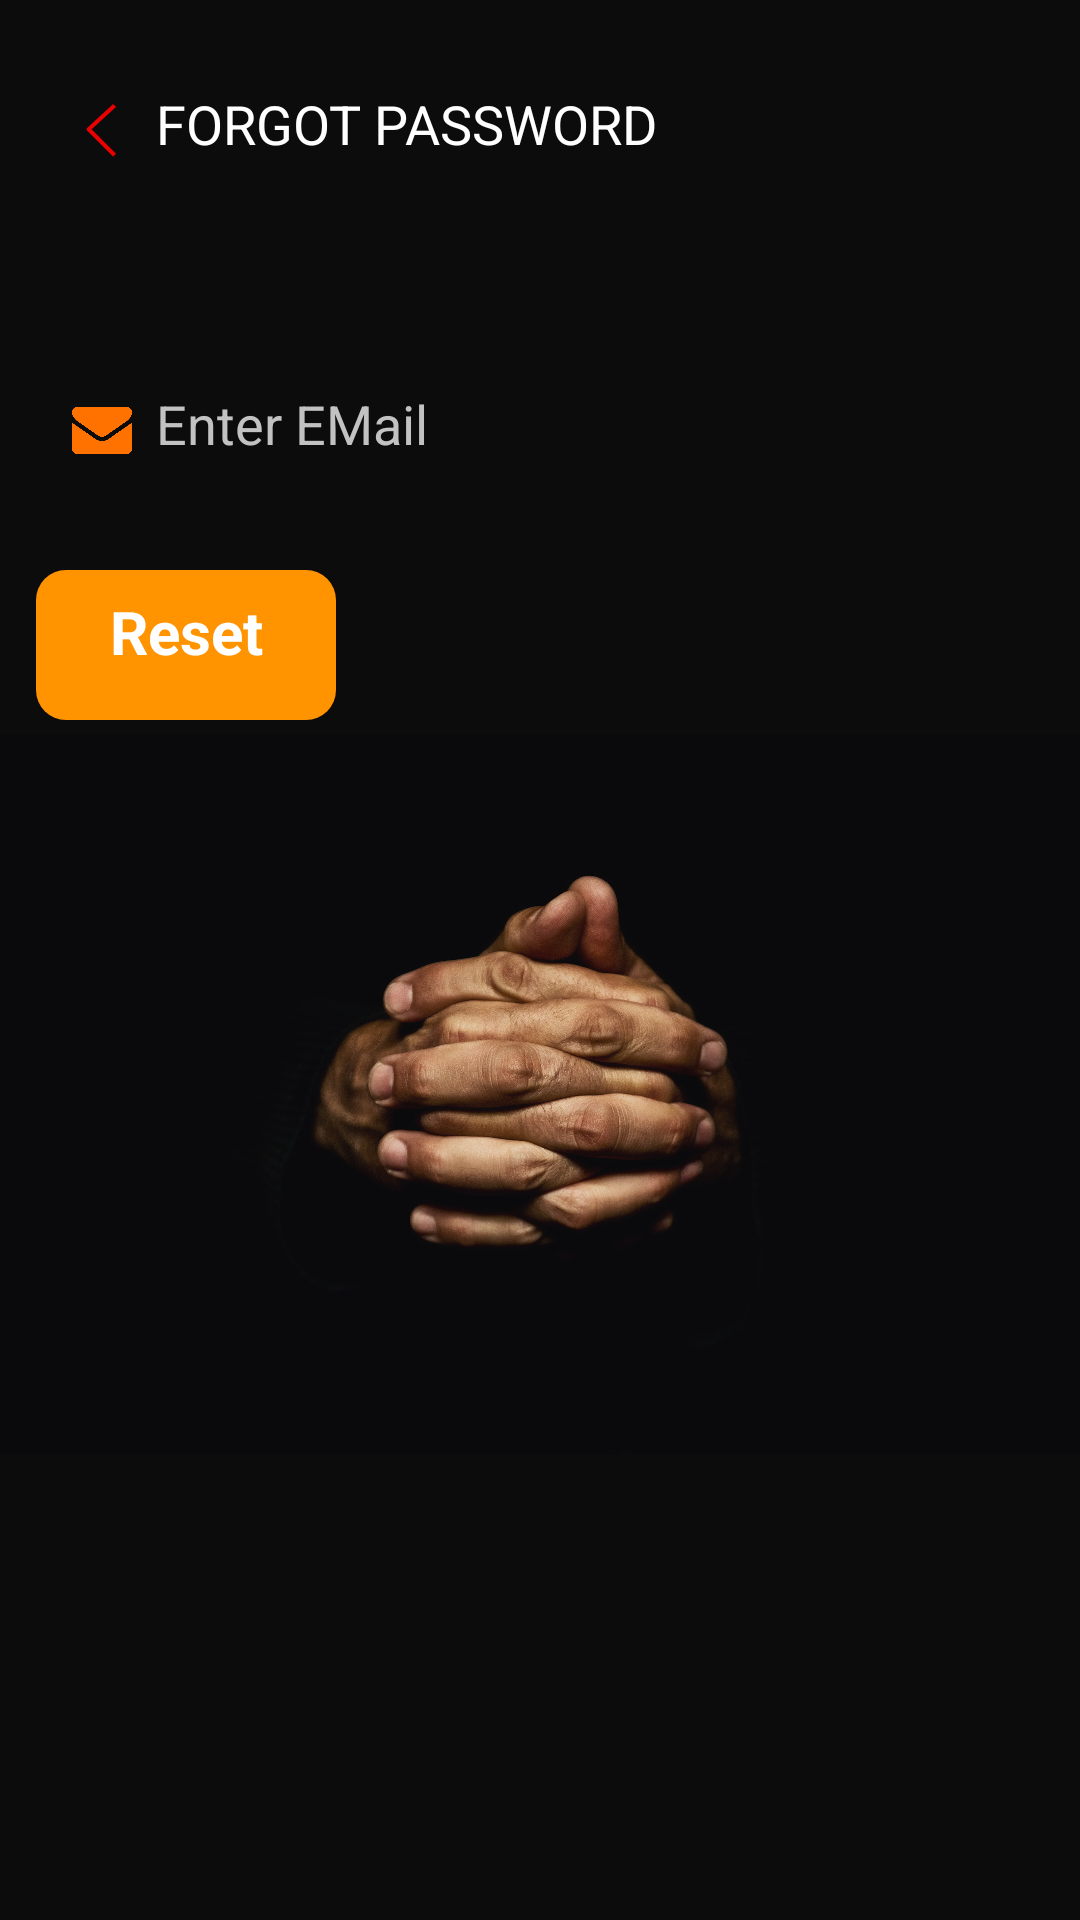

Named icons in this screenshot (1080*1920) and their centers, (x,y):
back: (101,130)
